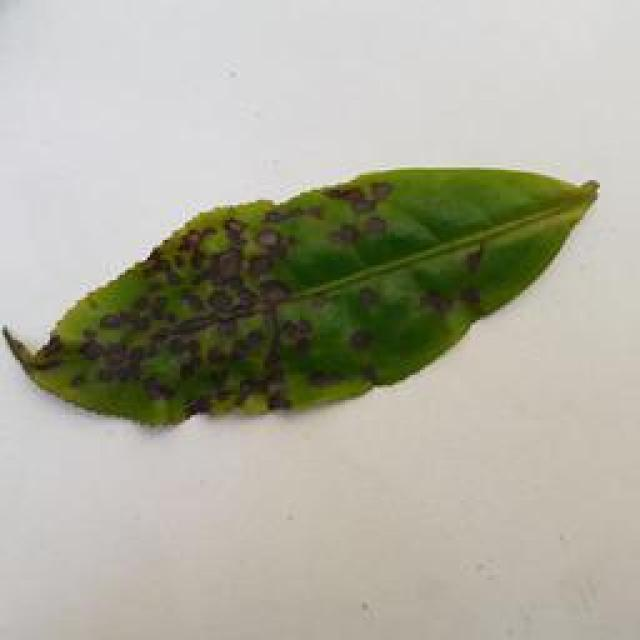Helopeltis: (3, 160, 597, 434)
